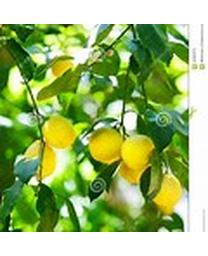lemon: (120, 134, 155, 171), (90, 127, 125, 164), (26, 140, 58, 180), (41, 116, 76, 149), (152, 174, 183, 208)
